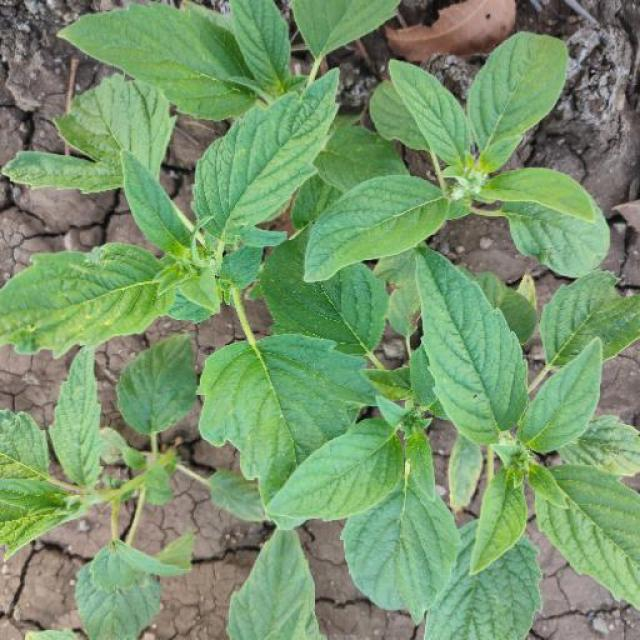crop: (1, 5, 640, 607)
